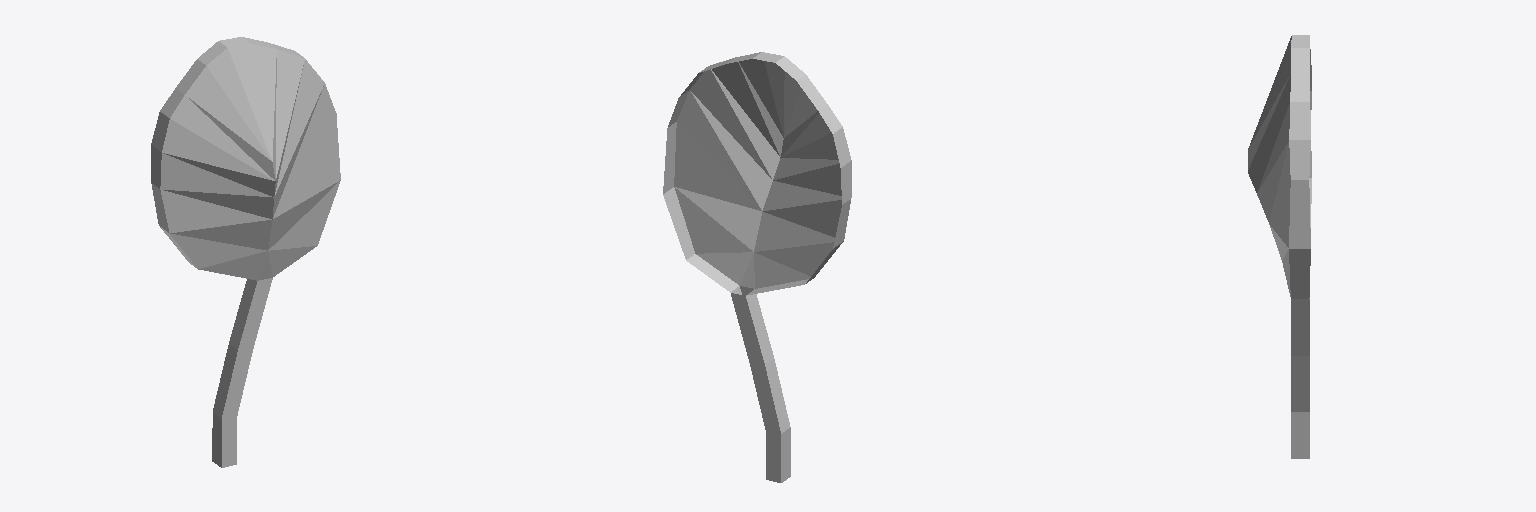
File: arbre2.obj
3 renders of one model, left to right at view 1: azimuth 30°, elevation 25°; view 2: azimuth 150°, elevation 25°; view 3: azimuth 270°, elevation 25°, orthographic.
Bounding box in the file's own units: 0.8712 × 1.95 × 0.273.